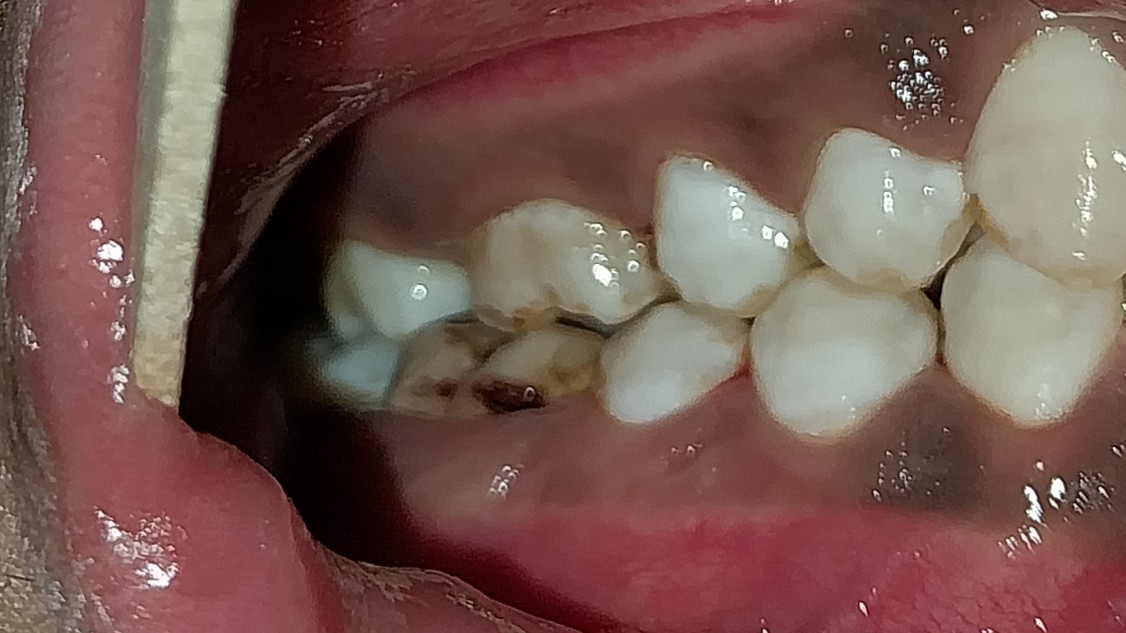D: (380, 315, 600, 426)
